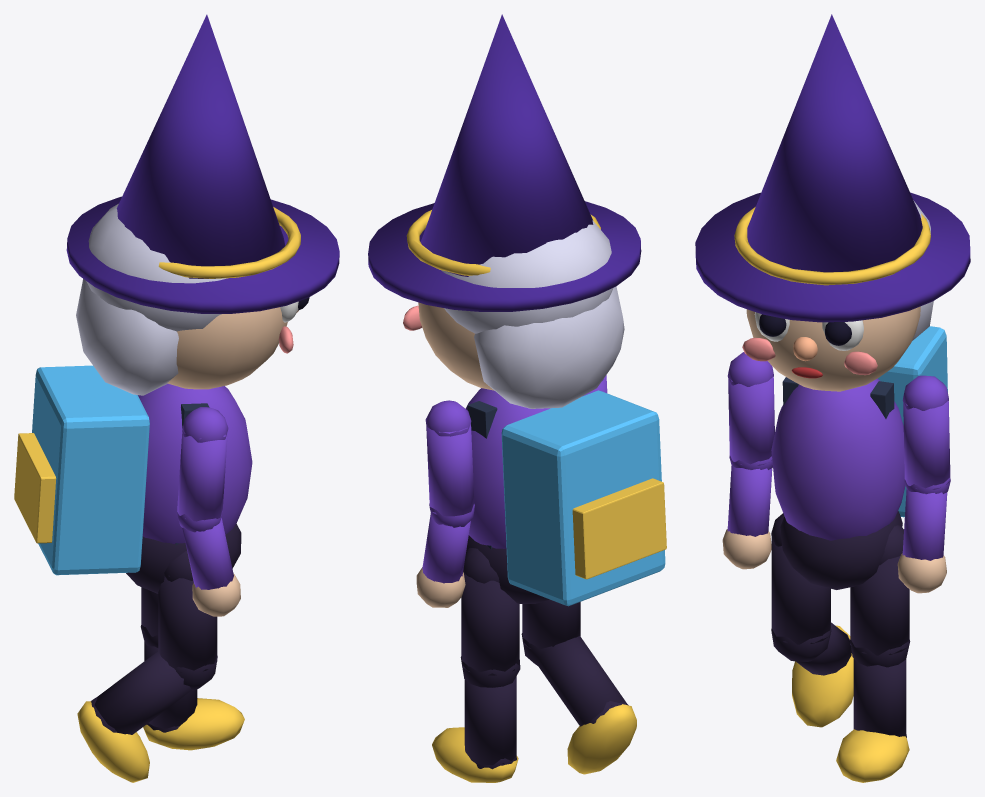
The model's file is hrdina_4_chuze.glb.
3 renders of one model, left to right at view 1: azimuth 30°, elevation 25°; view 2: azimuth 150°, elevation 25°; view 3: azimuth 270°, elevation 25°, orthographic.
Parts seen in each view (by area): view 1: Cone, Cube, Cylinder, Sphere, Sphere.012, Sphere.002, Sphere.011, Cylinder.006, Cylinder.005, Cylinder.001, Cube.001, Sphere.031 (+10 smaller); view 2: Cube, Cone, Sphere.012, Cylinder, Sphere.011, Cube.001, Cylinder.007, Sphere, Cylinder.006, Cylinder.008, Cylinder.003, Sphere.026 (+11 smaller); view 3: Cone, Sphere, Cylinder, Sphere.002, Sphere.001, Cylinder.007, Cylinder.005, Cylinder.008, Cylinder.003, Cylinder.001, Torus, Sphere.026 (+19 smaller).
Boxes of the visible parts, box(x1,y1,x2,y2) form: Cone: box(116, 14, 285, 278); Cube: box(32, 365, 149, 575); Cylinder: box(66, 196, 339, 313); Sphere: box(138, 383, 252, 543); Sphere.012: box(76, 279, 178, 395); Sphere.002: box(167, 307, 287, 389); Sphere.011: box(86, 203, 227, 331); Cylinder.006: box(92, 651, 191, 734); Cylinder.005: box(158, 576, 217, 672); Cylinder.001: box(177, 429, 227, 521); Cube.001: box(14, 433, 56, 543); Sphere.031: box(143, 698, 244, 750); Cube: box(501, 390, 665, 606); Cone: box(420, 14, 593, 276); Sphere.012: box(474, 286, 624, 408); Cylinder: box(368, 201, 641, 311); Sphere.011: box(441, 220, 613, 333); Cube.001: box(572, 478, 666, 579); Cylinder.007: box(461, 573, 519, 675); Sphere: box(465, 388, 550, 548); Cylinder.006: box(536, 636, 625, 726); Cylinder.008: box(464, 676, 516, 765); Cylinder.003: box(426, 424, 474, 516); Sphere.026: box(567, 704, 636, 774); Cone: box(747, 14, 922, 272); Sphere: box(771, 378, 905, 540); Cylinder: box(695, 192, 970, 322); Sphere.002: box(746, 306, 920, 391); Sphere.001: box(780, 511, 902, 589); Cylinder.007: box(850, 556, 909, 655); Cylinder.005: box(771, 538, 830, 644); Cylinder.008: box(853, 658, 906, 736); Cylinder.003: box(903, 400, 950, 489); Cylinder.001: box(728, 376, 774, 465); Torus: box(734, 206, 930, 285); Sphere.026: box(792, 625, 853, 727).
Bounding box in the file's own units: 0.6589 × 1.67 × 0.5502.
